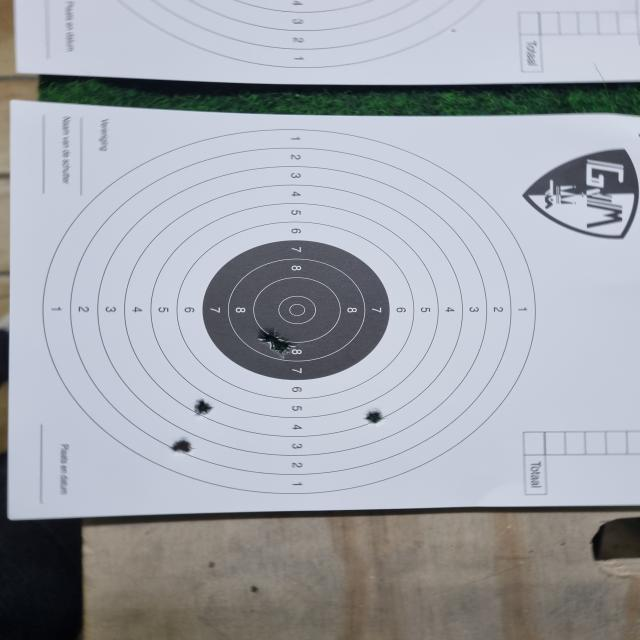2: (170, 440, 195, 454)
4: (363, 411, 386, 424), (195, 400, 212, 416)
9: (271, 339, 296, 353), (259, 332, 278, 344)
Target: (43, 136, 550, 494)
black_contour: (203, 240, 393, 381)
